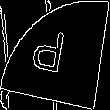P_S: (34, 26, 76, 84)
